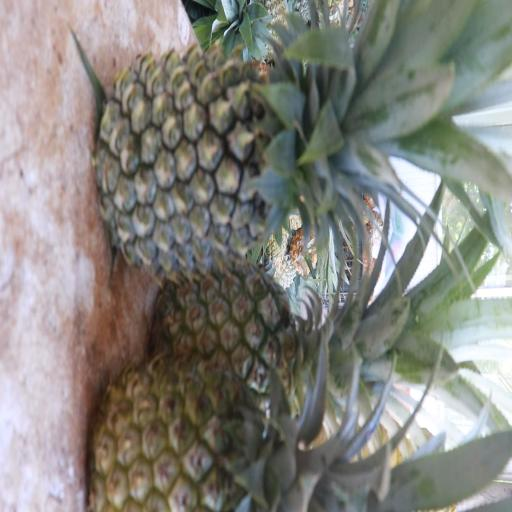------------------------------: (84, 354, 428, 512), (150, 240, 388, 434)
